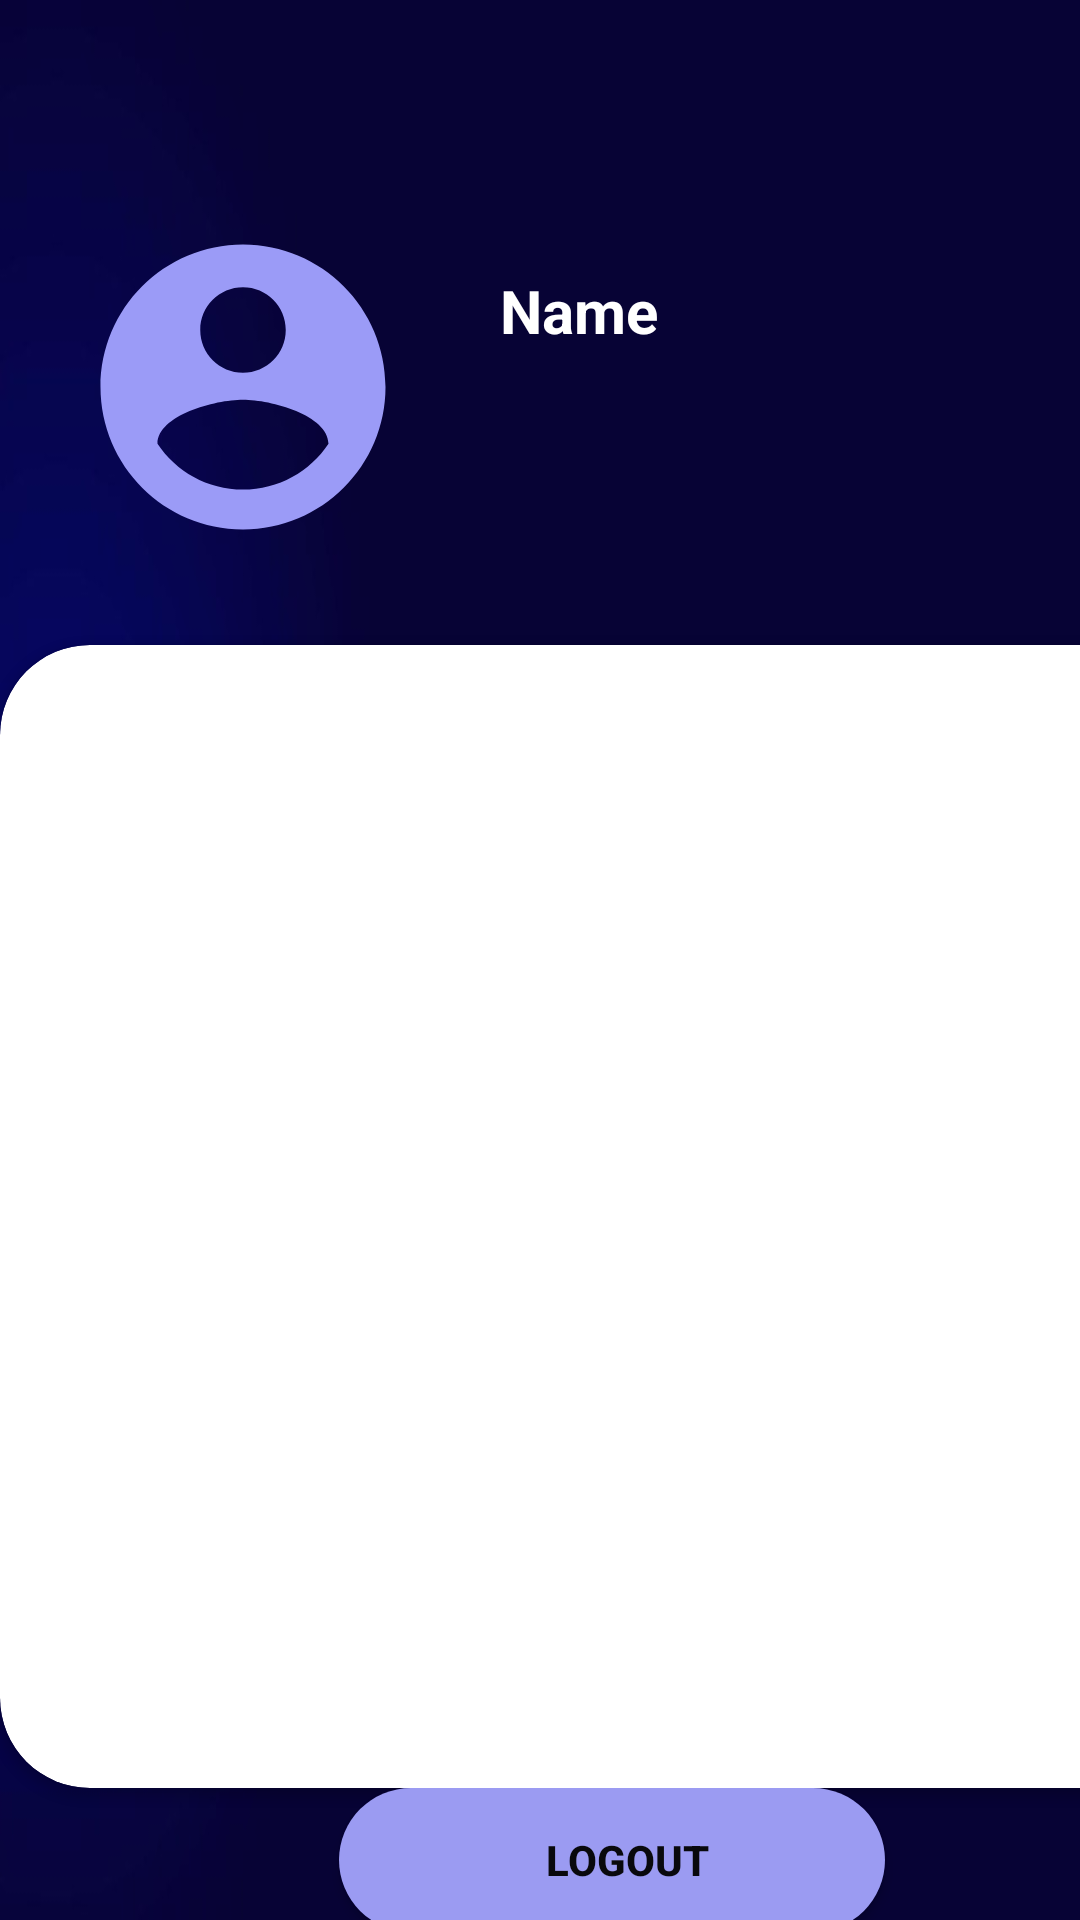

Where to tap for icons on this 1080×1920 app screen, as (x,y):
account circle: (229,401)
